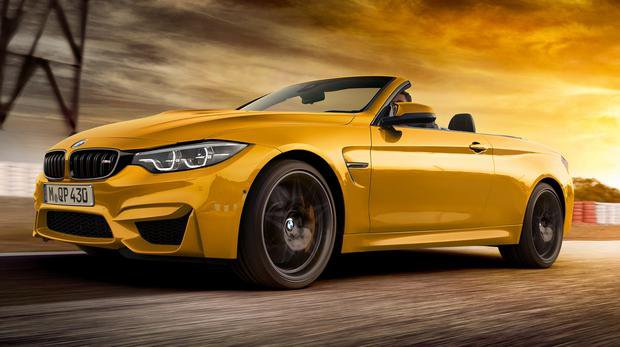car: (30, 73, 575, 286)
